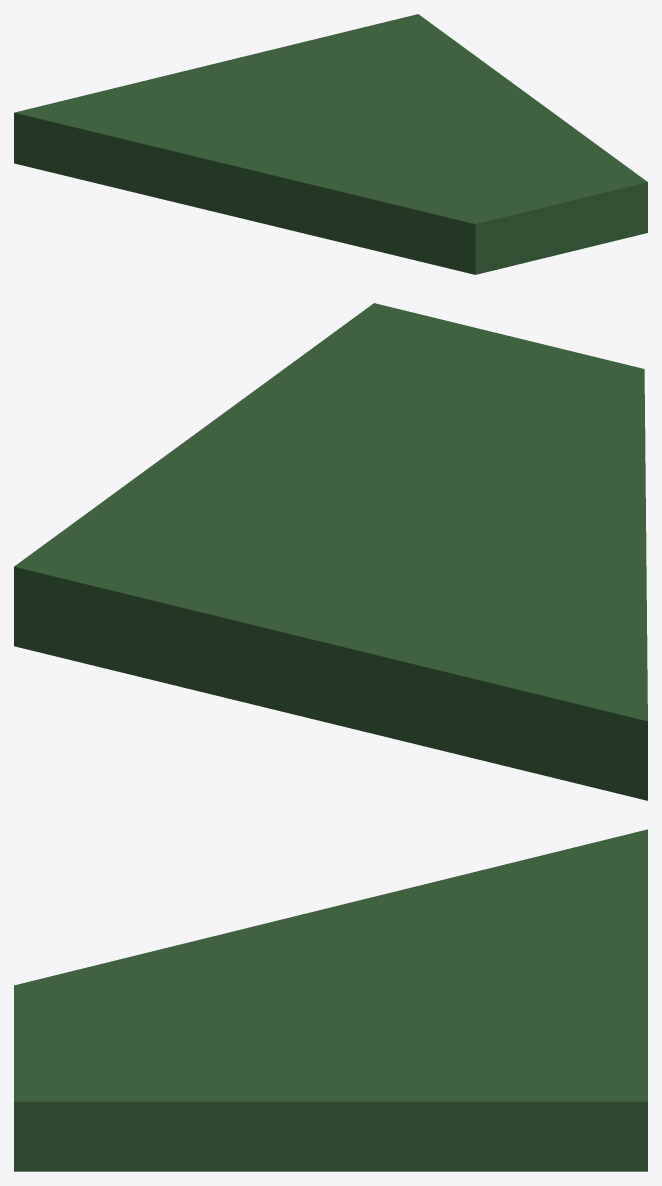
Rendered from x_proval_00_168_1_rmstrd.fbx.
The picture shows the model from 3 angles, top to bottom: view 1: azimuth 30°, elevation 25°; view 2: azimuth 150°, elevation 25°; view 3: azimuth 270°, elevation 25°; orthographic projection. The views are drawn at different scales.
Parts seen in each view (by area): view 1: x_proval_00_168_1_rmstrd1; view 2: x_proval_00_168_1_rmstrd1; view 3: x_proval_00_168_1_rmstrd1.
Part boxes in pixels (bbox=[...]): x_proval_00_168_1_rmstrd1: bbox=[14, 14, 647, 274]; x_proval_00_168_1_rmstrd1: bbox=[14, 303, 647, 800]; x_proval_00_168_1_rmstrd1: bbox=[14, 829, 647, 1171].
Size of the model in its own units: 1.67 by 0.2 by 1.64.
